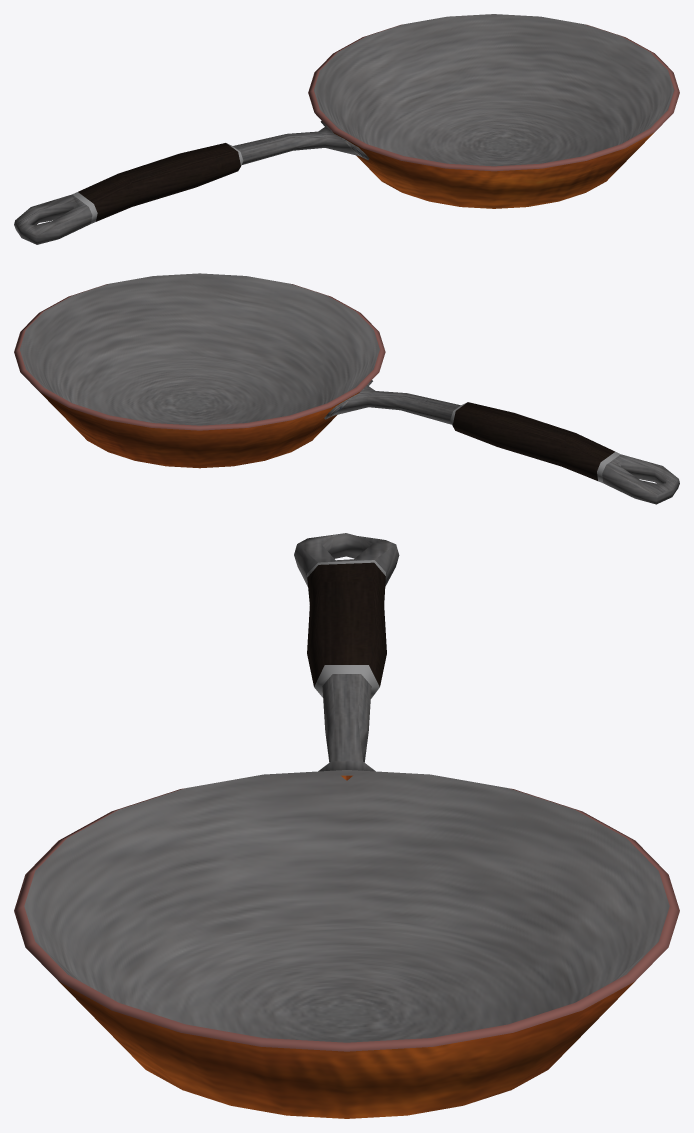
Rendered from Frypan.fbx.
3 renders of one model, top to bottom at view 1: azimuth 30°, elevation 25°; view 2: azimuth 150°, elevation 25°; view 3: azimuth 270°, elevation 25°, orthographic. The views are drawn at different scales.
Parts seen in each view (by area): view 1: FryPan_LOD0; view 2: FryPan_LOD0; view 3: FryPan_LOD0.
Part boxes in pixels (x1,y1,x2,y2): FryPan_LOD0: (14,14,679,244); FryPan_LOD0: (14,273,679,504); FryPan_LOD0: (14,533,679,1118).
Size of what is drawn, in the model's own units: 157 by 16.71 by 79.63.
